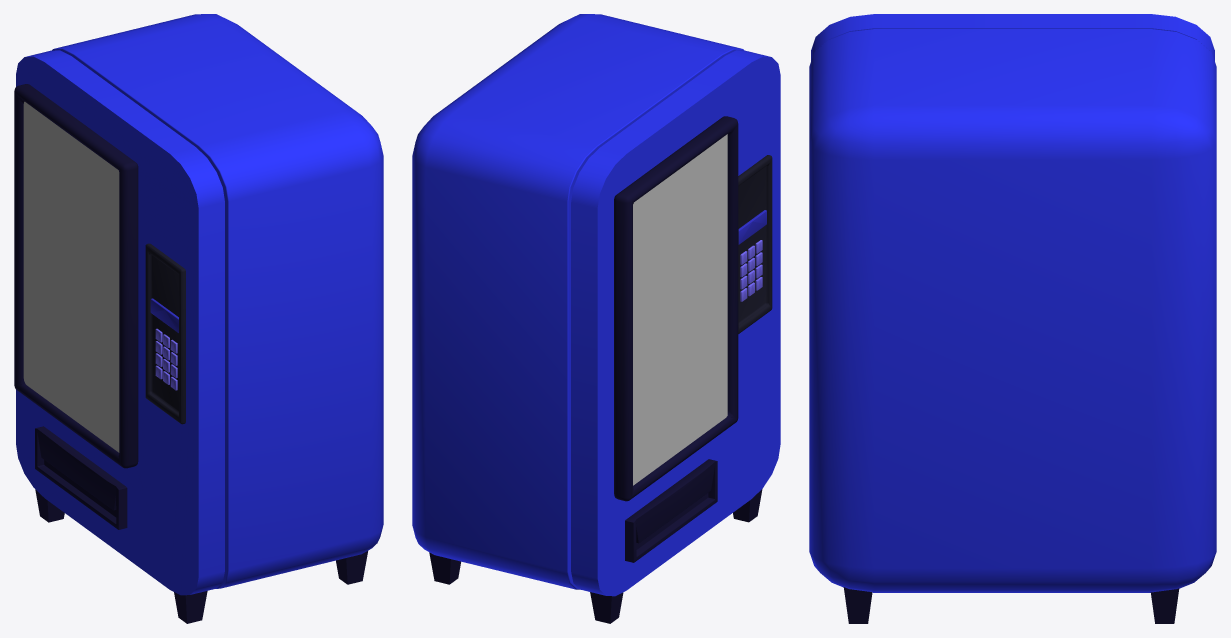
The model's file is Vending_Machine.fbx.
The picture shows the model from 3 angles, left to right: view 1: azimuth 30°, elevation 25°; view 2: azimuth 150°, elevation 25°; view 3: azimuth 270°, elevation 25°; orthographic projection. The views are drawn at different scales.
Parts seen in each view (by area): view 1: Refrigerator_body.003; view 2: Refrigerator_body.003; view 3: Refrigerator_body.003.
Boxes of the visible parts, bbox=[...] form: Refrigerator_body.003: bbox=[14, 14, 383, 623]; Refrigerator_body.003: bbox=[412, 14, 780, 623]; Refrigerator_body.003: bbox=[809, 14, 1216, 623].
Size of the model in its own units: 94.99 by 192 by 138.
